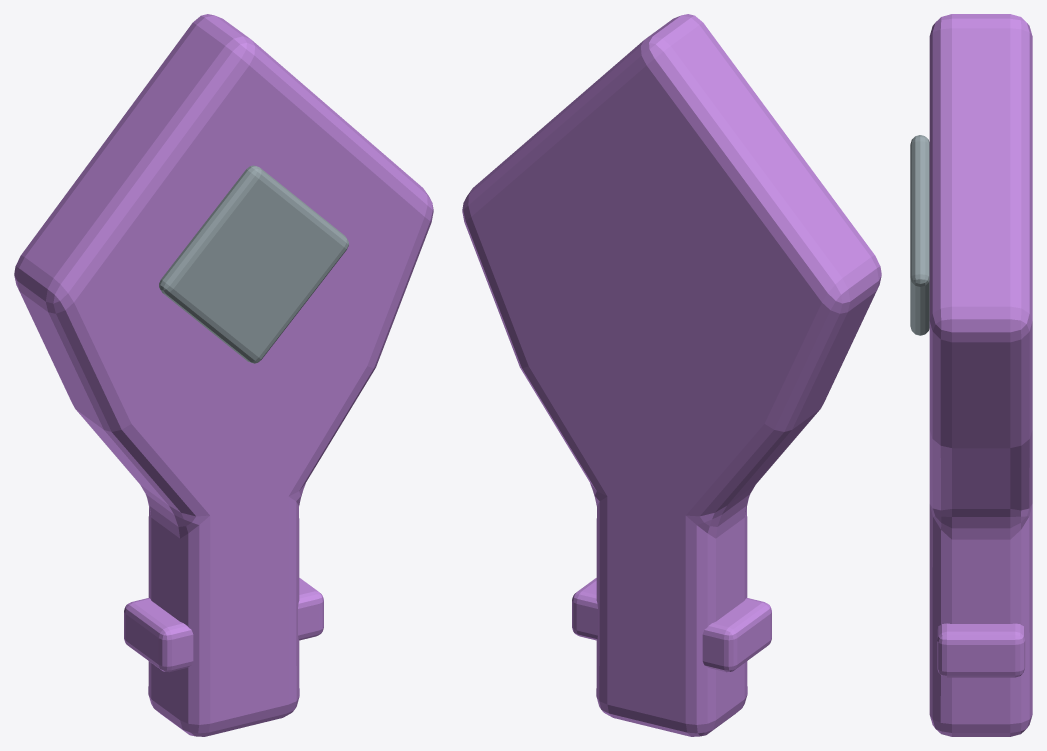
Rendered from mandate.glb.
3 views of the same model, side by side, from view 1: azimuth 30°, elevation 25°; view 2: azimuth 150°, elevation 25°; view 3: azimuth 270°, elevation 25° (orthographic).
Visible parts, largest first — view 1: Diamond body, Diamond inset, Mandate stop; view 2: Diamond body, Mandate stop; view 3: Diamond body, Mandate stop, Diamond inset.
Part boxes in pixels (x1,y1,x2,y2): Diamond body: (14,14,433,736); Diamond inset: (159,165,348,363); Mandate stop: (124,578,323,672); Diamond body: (462,14,881,736); Mandate stop: (572,578,771,672); Diamond body: (929,14,1032,736); Mandate stop: (937,623,1025,677); Diamond inset: (910,135,929,335).
Bounding box in the file's own units: 0.364 × 0.6217 × 0.0985.
